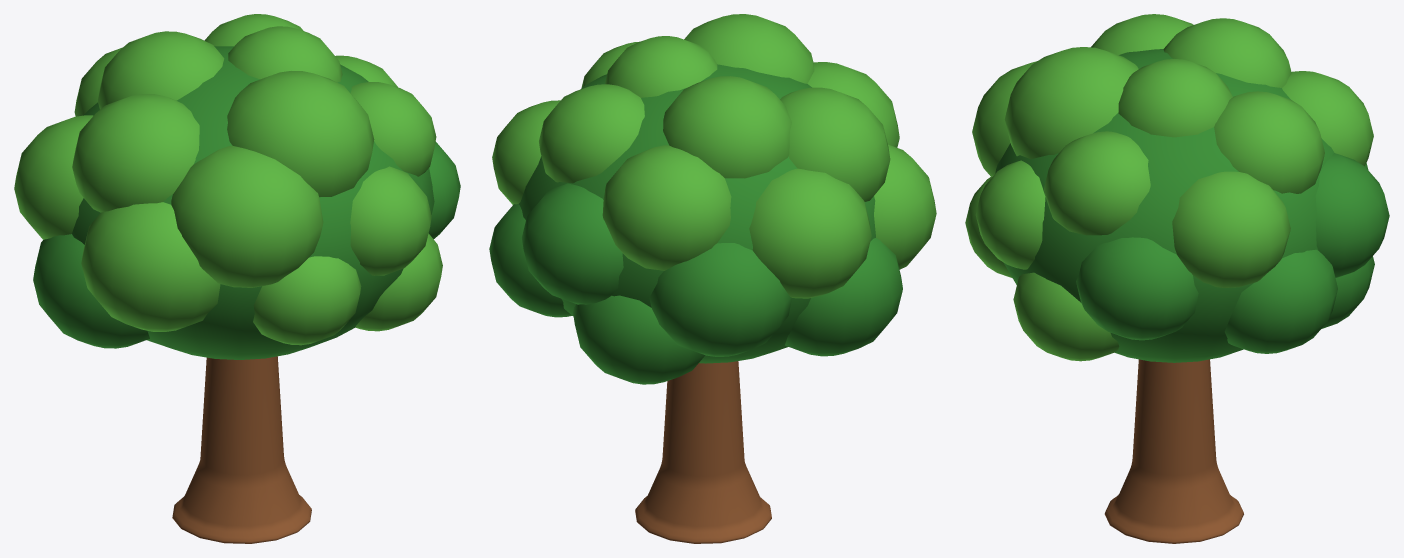
File: tree_round.glb
The picture shows the model from 3 angles, left to right: view 1: azimuth 30°, elevation 25°; view 2: azimuth 150°, elevation 25°; view 3: azimuth 270°, elevation 25°; orthographic projection.
Visible parts, largest first — view 1: tree_round; view 2: tree_round; view 3: tree_round.
Boxes of the visible parts, box(x1,y1,x2,y2) form: tree_round: box(14, 14, 460, 543); tree_round: box(489, 14, 936, 543); tree_round: box(965, 14, 1389, 543).
Bounding box in the file's own units: 2.54 × 2.94 × 2.41.
